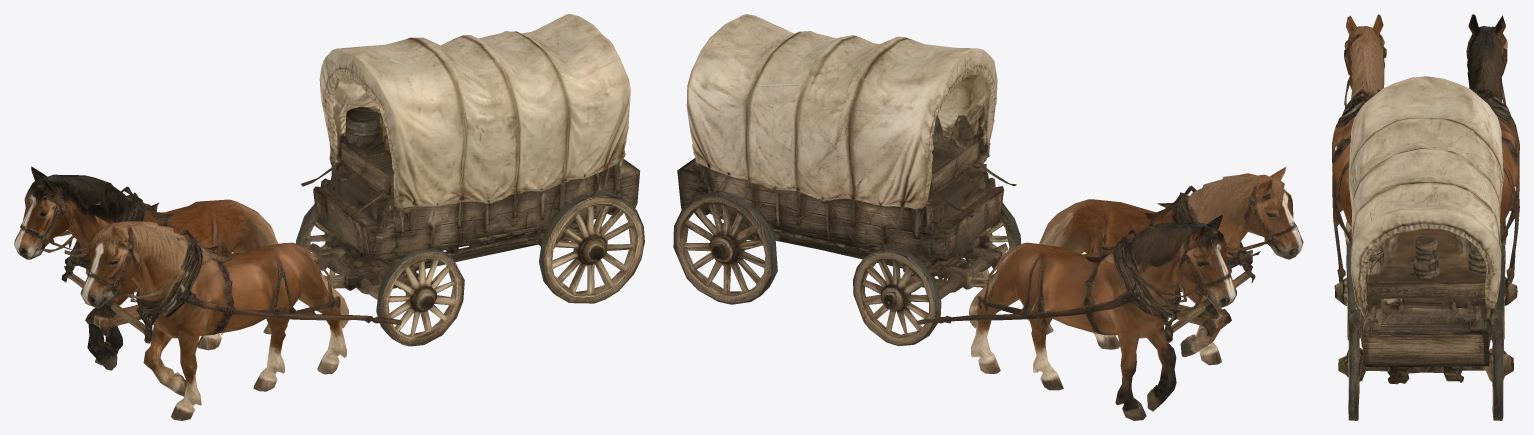
Rendered from wagonhorses.glb.
The picture shows the model from 3 angles, left to right: view 1: azimuth 30°, elevation 25°; view 2: azimuth 150°, elevation 25°; view 3: azimuth 270°, elevation 25°; orthographic projection. The views are drawn at different scales.
Visible parts, largest first — view 1: Mesh_0; view 2: Mesh_0; view 3: Mesh_0.
Boxes of the visible parts, bbox=[...] form: Mesh_0: bbox=[14, 14, 644, 420]; Mesh_0: bbox=[673, 14, 1303, 420]; Mesh_0: bbox=[1332, 14, 1519, 420].
Bounding box in the file's own units: 1.91 × 0.9271 × 0.5987.
Materials: 1 (1 with a texture image).
